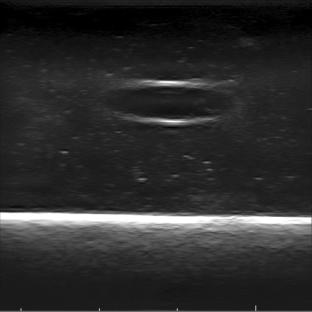vessel: (107, 80, 237, 126)
